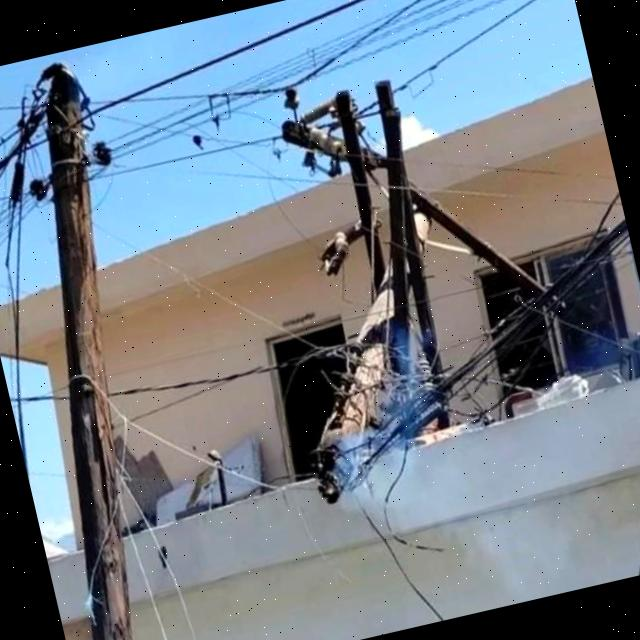Broken Pole: (279, 69, 572, 510), (30, 67, 142, 640)
